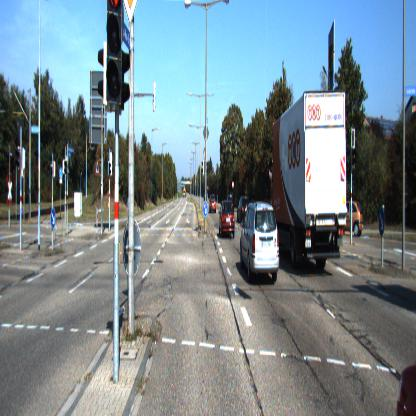car: (276, 91, 352, 271), (238, 203, 281, 284), (345, 202, 365, 238)
